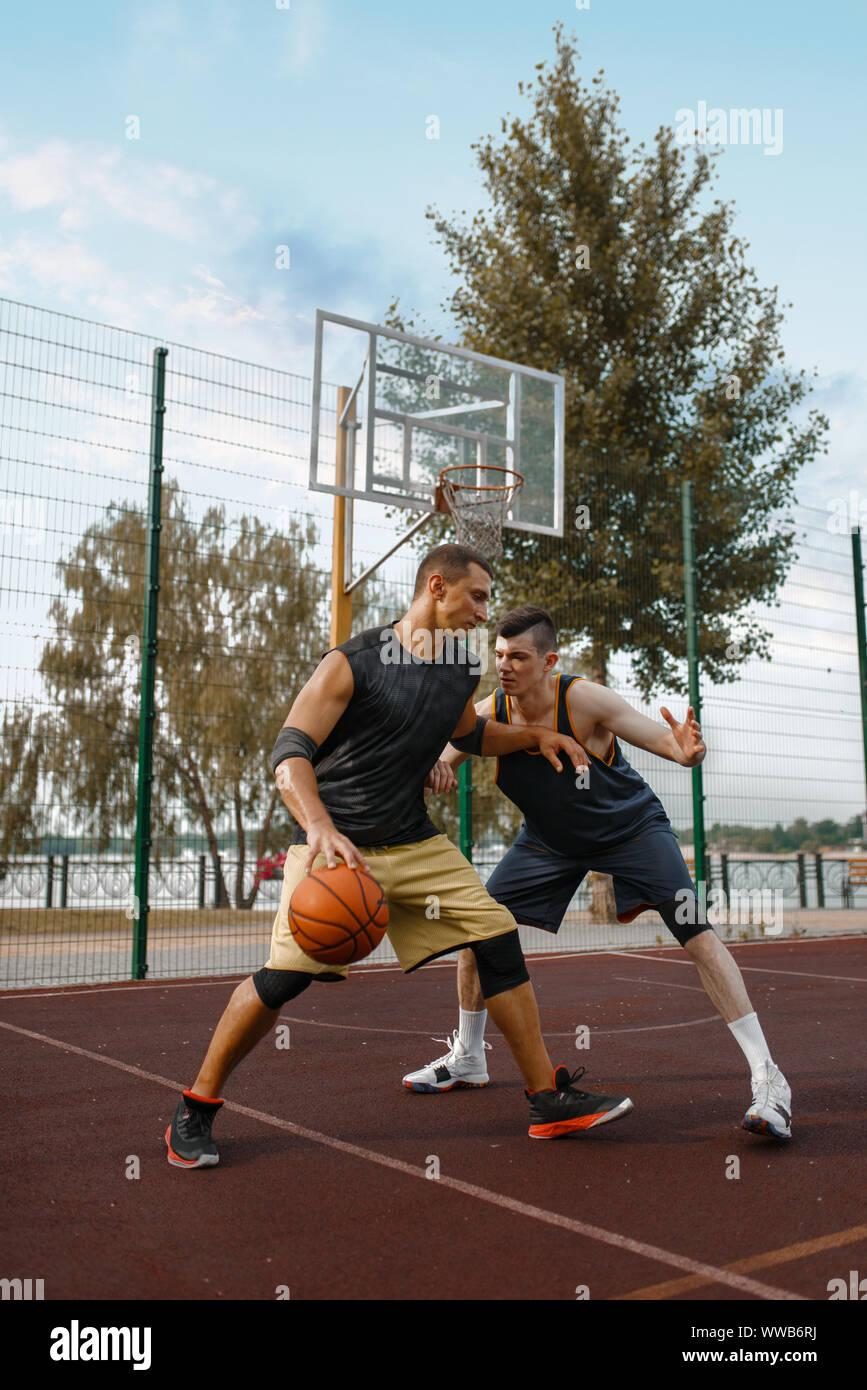basketball: (280, 848, 388, 968)
